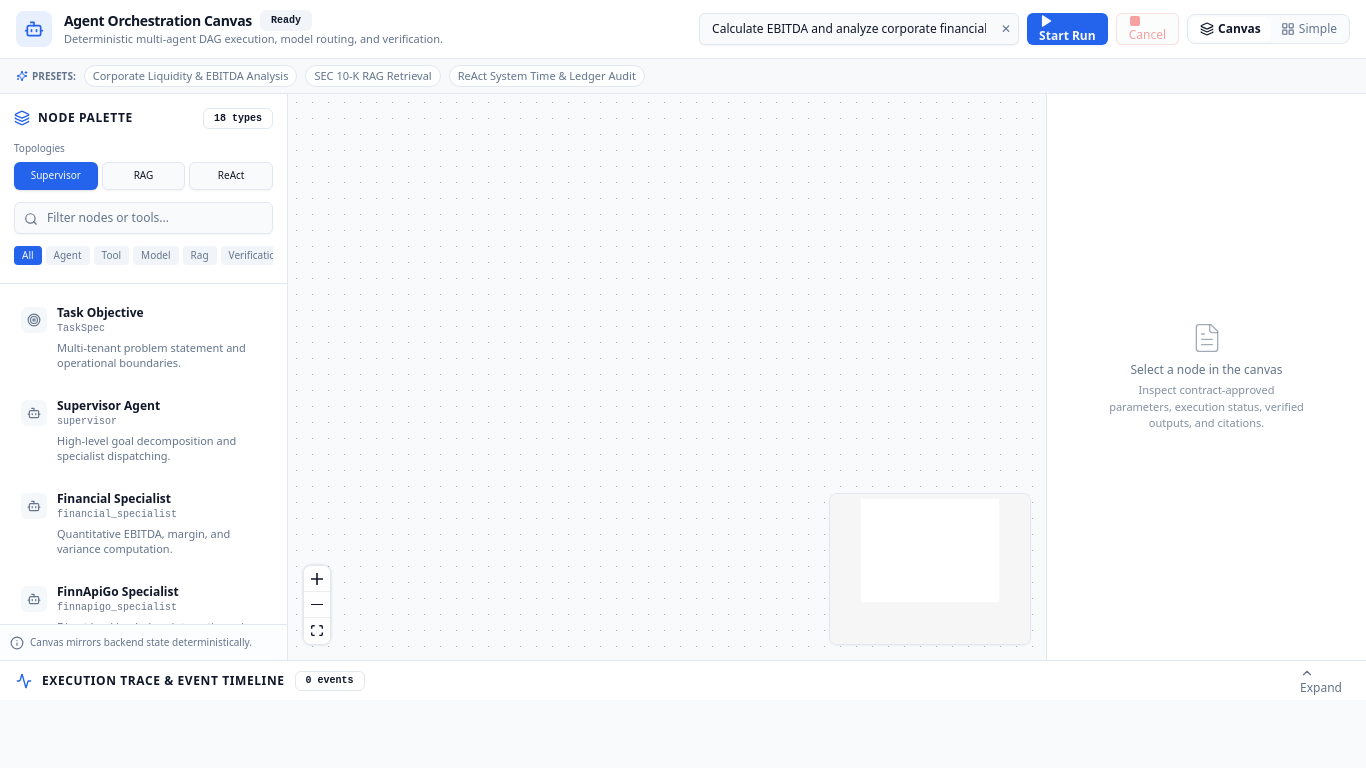
Agent Execution SSE Stream Integration › submits task, starts run, and streams real-time events into canvas & timeline
This screenshot has width=1366, height=768.
Note: Click Start Run
Click the button with test id "start-run-button": coordinates (1067, 29) [1027, 13, 1108, 45]
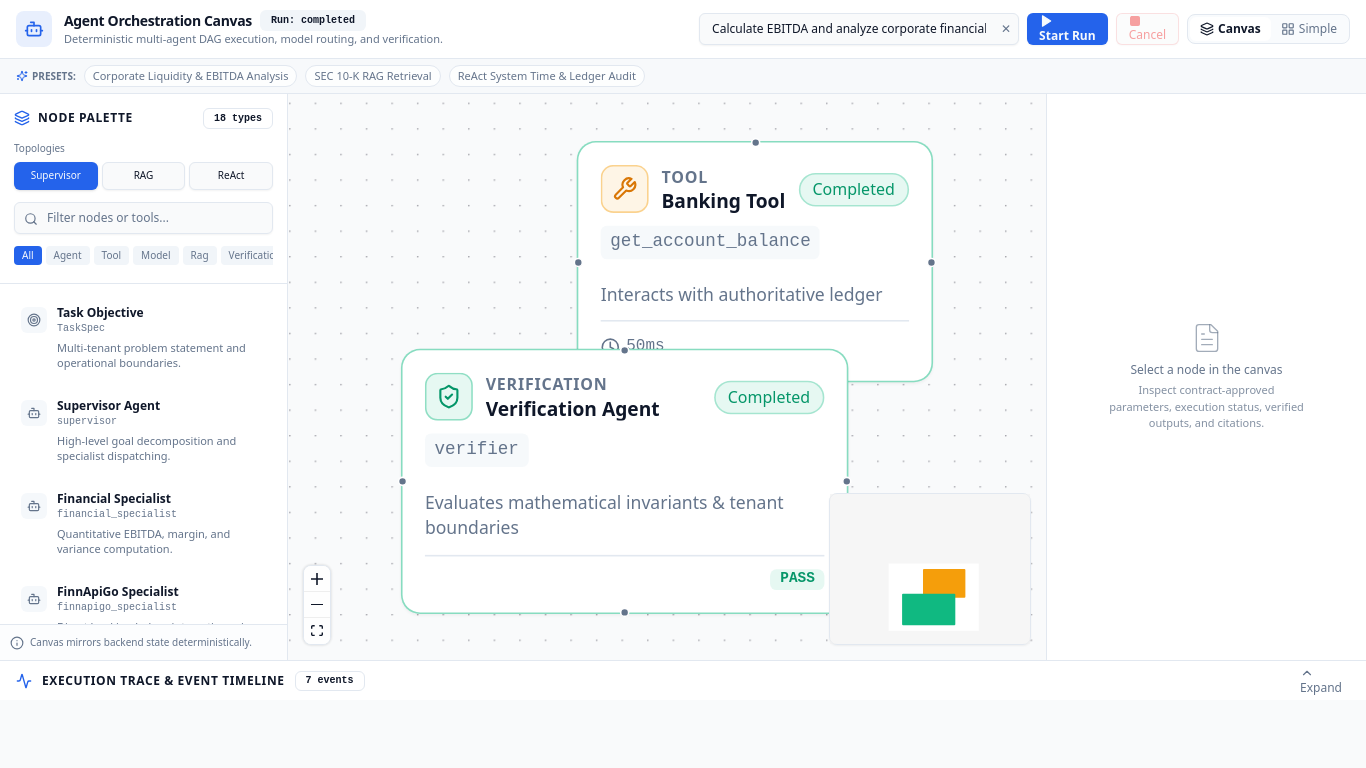
Expected: the text "Run: completed" is shown, [260, 10, 366, 31]
